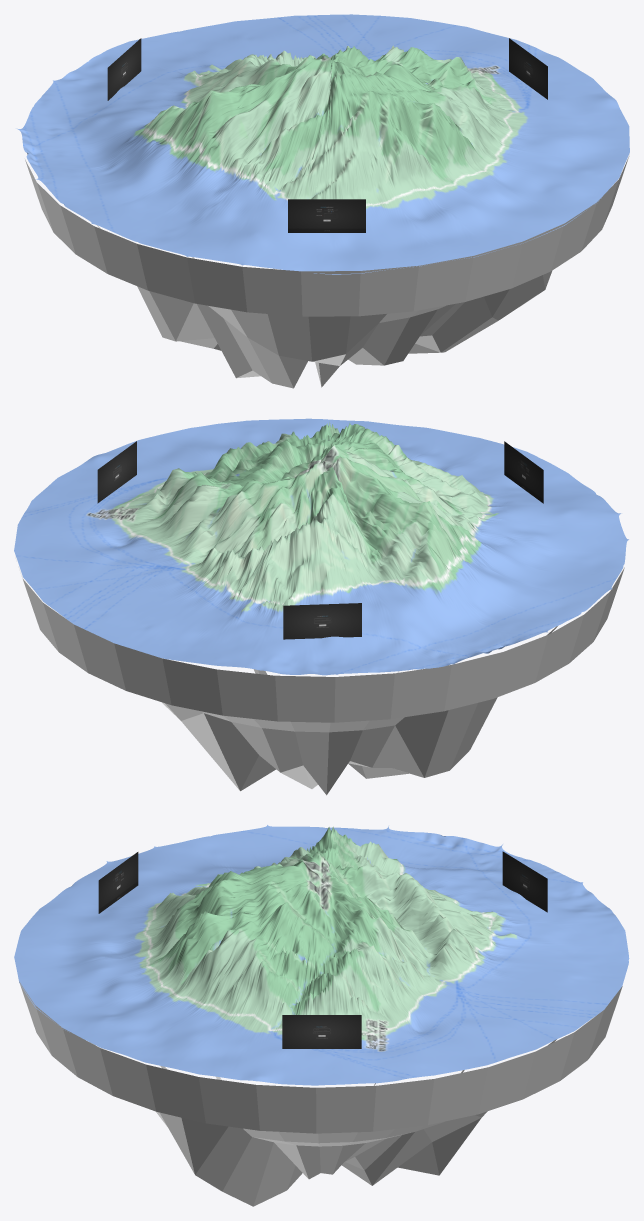
File: generalMap_box5_header5.glb
3 renders of one model, top to bottom at view 1: azimuth 30°, elevation 25°; view 2: azimuth 150°, elevation 25°; view 3: azimuth 270°, elevation 25°, orthographic.
Parts seen in each view (by area): view 1: EXPORT_GOOGLE_MAP_WM, Sphere, Plane.001, Plane, Plane.002; view 2: EXPORT_GOOGLE_MAP_WM, Sphere, Plane.002, Plane, Plane.001; view 3: EXPORT_GOOGLE_MAP_WM, Sphere, Plane, Plane.002, Plane.001.
Boxes of the visible parts, <box> form: EXPORT_GOOGLE_MAP_WM: <box>16,14,629,274</box>; Sphere: <box>25,156,629,388</box>; Plane.001: <box>288,199,365,232</box>; Plane: <box>509,38,547,99</box>; Plane.002: <box>107,38,141,100</box>; EXPORT_GOOGLE_MAP_WM: <box>14,418,628,675</box>; Sphere: <box>22,567,624,795</box>; Plane.002: <box>283,603,361,639</box>; Plane: <box>97,441,136,503</box>; Plane.001: <box>504,441,543,503</box>; EXPORT_GOOGLE_MAP_WM: <box>14,825,629,1085</box>; Sphere: <box>19,981,622,1206</box>; Plane: <box>282,1015,361,1048</box>; Plane.002: <box>502,851,547,912</box>; Plane.001: <box>98,852,138,913</box>.
Bounding box in the file's own units: 327 × 186 × 327.
3 materials, 3 textured.
